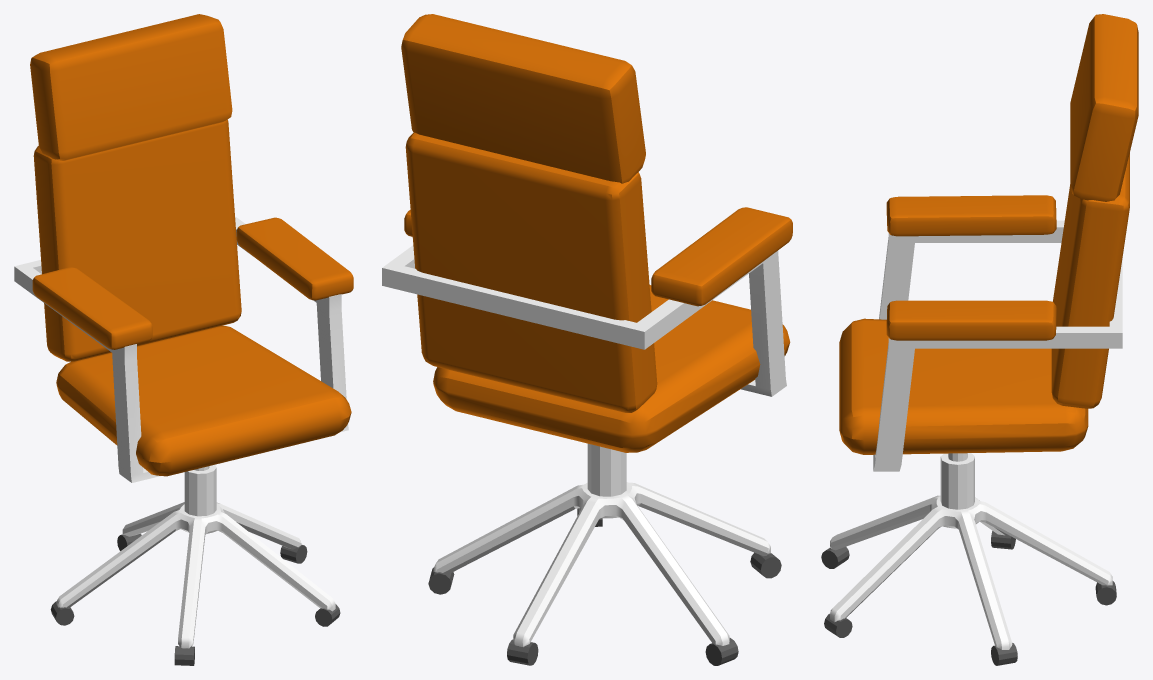
The model's file is office_chair.glb.
3 renders of one model, left to right at view 1: azimuth 30°, elevation 25°; view 2: azimuth 150°, elevation 25°; view 3: azimuth 270°, elevation 25°, orthographic. The views are drawn at different scales.
Visible parts, largest first — view 1: pCube2, pCube3, pCube1, pCube5, pCylinder4, pCube4, pCylinder3; view 2: pCube2, pCube1, pCube3, pCylinder4, pCube4, pCube5, pCylinder3, pCylinder8, pCylinder7; view 3: pCube3, pCube5, pCube2, pCube1, pCylinder4, pCube4, pCylinder3.
Boxes of the visible parts, x1,y1,x2,y2 form: pCube2: [33, 119, 241, 361]; pCube3: [56, 325, 351, 476]; pCube1: [30, 14, 232, 160]; pCube5: [32, 217, 353, 349]; pCylinder4: [56, 502, 335, 648]; pCube4: [14, 216, 348, 482]; pCylinder3: [184, 464, 216, 516]; pCube2: [405, 132, 657, 412]; pCube1: [401, 14, 645, 183]; pCube3: [433, 285, 790, 452]; pCylinder4: [433, 482, 770, 647]; pCube4: [382, 245, 786, 396]; pCube5: [404, 207, 792, 306]; pCylinder3: [587, 443, 626, 496]; pCylinder8: [705, 638, 738, 665]; pCylinder7: [507, 639, 538, 665]; pCube3: [839, 318, 1088, 454]; pCube5: [886, 195, 1056, 340]; pCube2: [1051, 153, 1129, 408]; pCube1: [1070, 14, 1138, 201]; pCylinder4: [830, 495, 1112, 649]; pCube4: [873, 220, 1122, 471]; pCylinder3: [940, 453, 974, 509].
Bounding box in the file's own units: 0.9481 × 1.87 × 0.9725.
